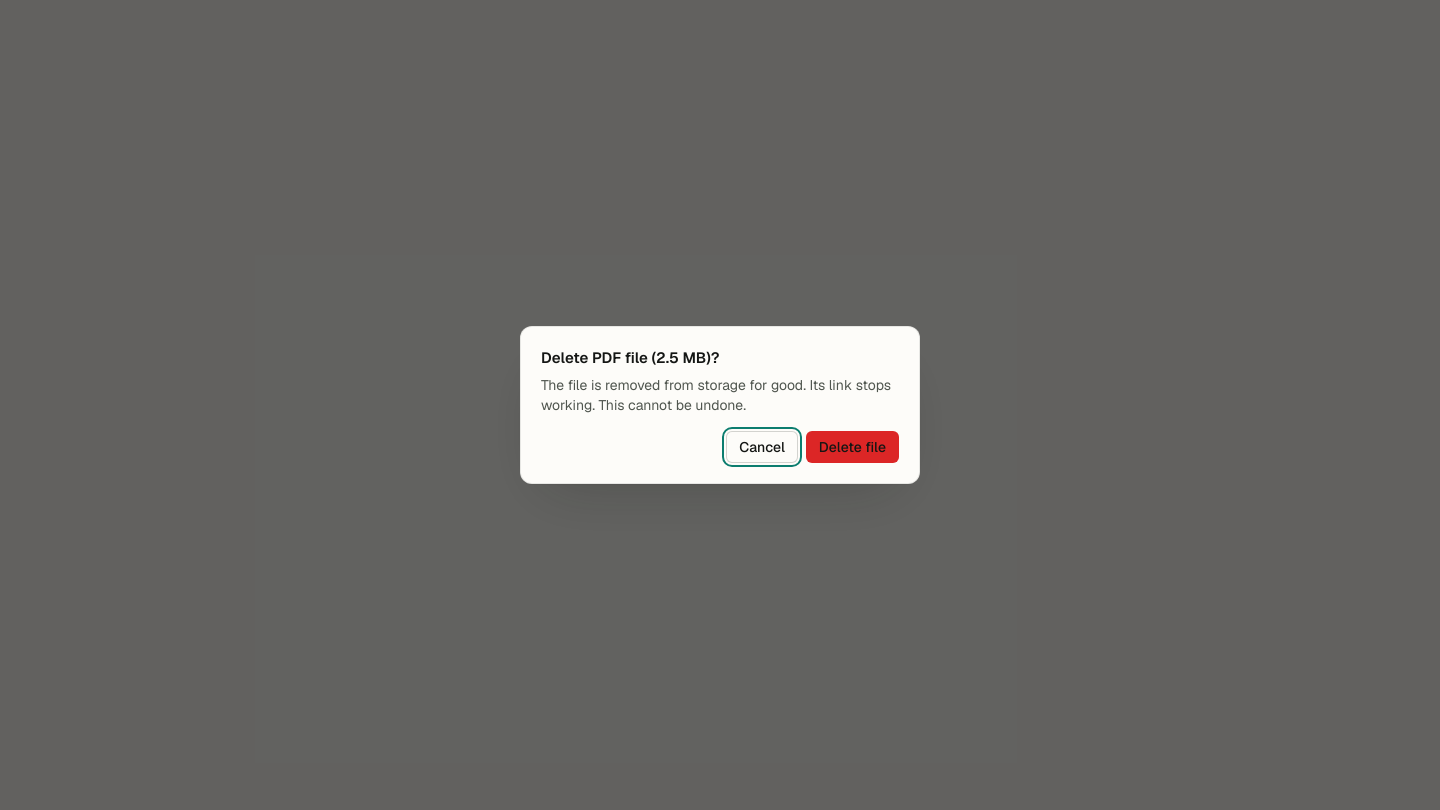
Test: DeleteFilesDialog › a rate-limited delete shows a toast with the wait and the same text inline (5.4)
The image size is (1440, 810).
Click the button "Delete file": coordinates (852, 447) [806,431,899,463]
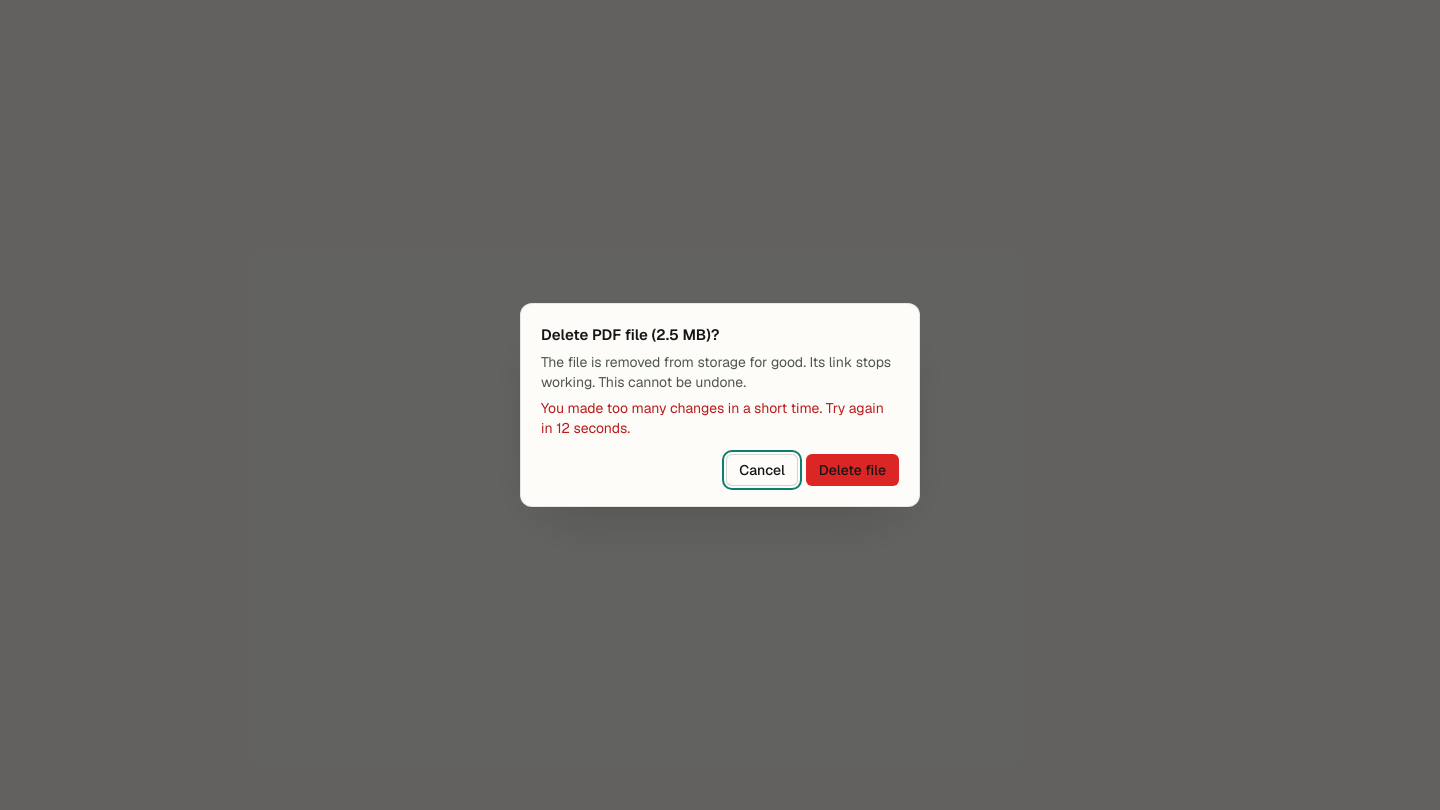
Result: the message shows "Try again in 12 seconds" at [541,399,884,437]
